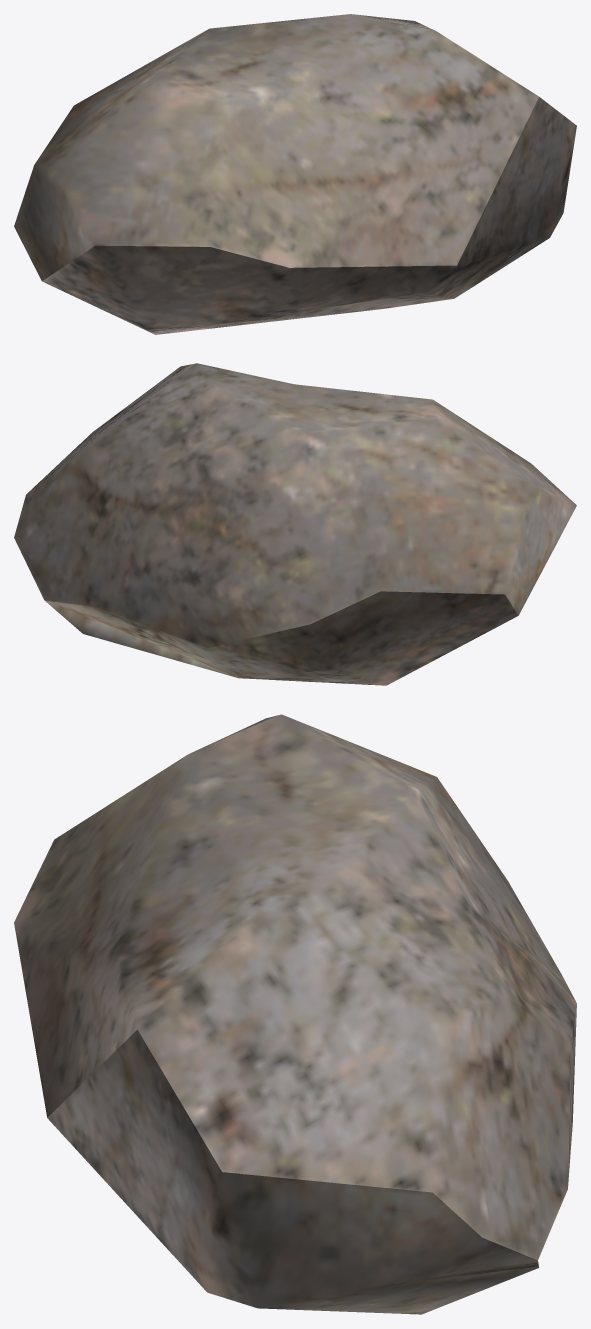
File: SM_Stone04.FBX
3 renders of one model, top to bottom at view 1: azimuth 30°, elevation 25°; view 2: azimuth 150°, elevation 25°; view 3: azimuth 270°, elevation 25°, orthographic. The views are drawn at different scales.
Visible parts, largest first — view 1: SM_Stone04; view 2: SM_Stone04; view 3: SM_Stone04.
Boxes of the visible parts, <box> form: SM_Stone04: <box>14,14,576,334</box>; SM_Stone04: <box>14,363,576,685</box>; SM_Stone04: <box>14,714,576,1314</box>.
Size of the model in its own units: 158 by 106 by 82.73.
